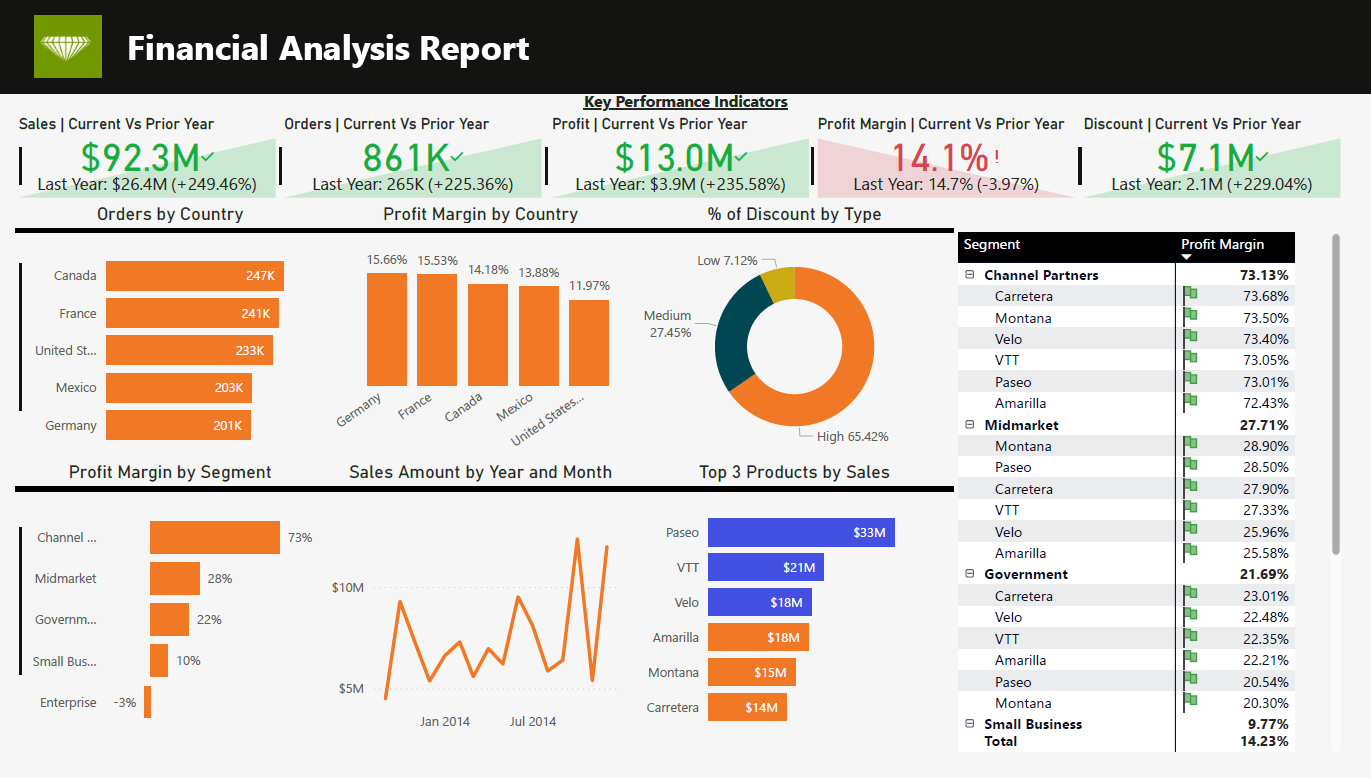

The dashboard page shown, as its layout file describes it:
{"tool":"powerbi","page":{"name":"Page 1","canvas":[1280,720],"ordinal":0},"visuals":[{"type":"kpi","title":"Sales | Current Vs Prior Year","fields":{"Indicator":["Analysis.Sales Amount"],"TrendLine":["Date Table.Year"],"Goal":["Analysis.Sales Amount LY"]},"box":[11.5,107.2,250,82],"z":0},{"type":"kpi","title":"Profit | Current Vs Prior Year","fields":{"TrendLine":["Date Table.Year"],"Indicator":["Analysis.Profit"],"Goal":["Analysis.Profit LY"]},"box":[509.4,107.2,250,82],"z":1},{"type":"kpi","title":"Orders | Current Vs Prior Year","fields":{"TrendLine":["Date Table.Year"],"Indicator":["Analysis.Orders"],"Goal":["Analysis.Orders LY"]},"box":[260.5,107.2,250,82],"z":2},{"type":"kpi","title":"Profit Margin | Current Vs Prior Year","fields":{"TrendLine":["Date Table.Year"],"Indicator":["Analysis.Profit Margin"],"Goal":["Analysis.Profit Margin LY"]},"box":[758.3,107.2,250,82],"z":3},{"type":"kpi","title":"Discount | Current Vs Prior Year","fields":{"TrendLine":["Date Table.Year"],"Goal":["Analysis.Discount Offered LY"],"Indicator":["Analysis.Discount"]},"box":[1007.2,107.2,250,82],"z":4},{"type":"clusteredBarChart","fields":{"Category":["financials.Country"],"Y":["Analysis.Orders"]},"box":[13.3,188.3,290,241.7],"z":5},{"type":"columnChart","fields":{"Category":["financials.Country"],"Y":["Analysis.Profit Margin"]},"box":[303.3,188.3,290,241.7],"z":6},{"type":"donutChart","title":"% of Discount by Type","fields":{"Category":["financials.Discount Band"],"Y":["Analysis.Discount Offered LY"]},"box":[593.3,188.3,296.7,241.7],"z":7},{"type":"barChart","fields":{"Category":["financials.Segment"],"Y":["Analysis.Profit Margin"]},"box":[13.3,430,290,261.7],"z":8},{"type":"lineChart","fields":{"Y":["Analysis.Sales Amount"],"Category":["Date Table.Date.Variation.Date Hierarchy.Year","Date Table.Date.Variation.Date Hierarchy.Month"]},"box":[303.3,430,290,261.7],"z":9},{"type":"barChart","title":"Top 3 Products by Sales","fields":{"Y":["Analysis.Sales Amount"],"Category":["financials.Product"]},"box":[593.3,430,296.7,261.7],"z":10},{"type":"pivotTable","fields":{"Rows":["financials.Segment","financials.Product"],"Values":["Analysis.Profit Margin"]},"box":[890,211.7,366.7,495],"z":11},{"type":"shape","box":[0,0,1280,86.7],"z":13},{"type":"textbox","box":[113.3,15,428.3,56.7],"z":14},{"type":"image","box":[26.7,6.7,71.7,71.7],"z":15},{"type":"textbox","box":[0,78.3,1280,35],"z":17},{"type":"shape","box":[243.3,136.7,36.7,35],"z":19},{"type":"shape","box":[0,136.7,36.7,35],"z":20},{"type":"shape","box":[491.7,136.7,36.7,35],"z":21},{"type":"shape","box":[740,136.7,36.7,35],"z":22},{"type":"shape","box":[990,136.7,36.7,35],"z":23},{"type":"shape","box":[0,245,36.7,138.3],"z":24},{"type":"shape","box":[0,491.7,36.7,138.3],"z":25}]}

Visuals, with their boxes in screenshot pixels (x1, y1, x2, y2), scaled from the page's 1280x720 canvas onto the 1371x778 screenshot:
"Sales | Current Vs Prior Year" kpi: [x1=12, y1=116, x2=280, y2=204]
"Profit | Current Vs Prior Year" kpi: [x1=546, y1=116, x2=813, y2=204]
"Orders | Current Vs Prior Year" kpi: [x1=279, y1=116, x2=547, y2=204]
"Profit Margin | Current Vs Prior Year" kpi: [x1=812, y1=116, x2=1080, y2=204]
"Discount | Current Vs Prior Year" kpi: [x1=1079, y1=116, x2=1347, y2=204]
clusteredBarChart - financials.Country x Analysis.Orders: [x1=14, y1=203, x2=325, y2=465]
columnChart - financials.Country x Analysis.Profit Margin: [x1=325, y1=203, x2=635, y2=465]
"% of Discount by Type" donutChart: [x1=635, y1=203, x2=953, y2=465]
barChart - financials.Segment x Analysis.Profit Margin: [x1=14, y1=465, x2=325, y2=747]
lineChart - Analysis.Sales Amount x Date Table.Date.Variation.Date Hierarchy.Year: [x1=325, y1=465, x2=635, y2=747]
"Top 3 Products by Sales" barChart: [x1=635, y1=465, x2=953, y2=747]
pivotTable - financials.Segment x financials.Product: [x1=953, y1=229, x2=1346, y2=764]
shape: [x1=0, y1=0, x2=1370, y2=94]
textbox: [x1=121, y1=16, x2=580, y2=77]
image: [x1=29, y1=7, x2=105, y2=85]
textbox: [x1=0, y1=85, x2=1370, y2=122]
shape: [x1=261, y1=148, x2=300, y2=186]
shape: [x1=0, y1=148, x2=39, y2=186]
shape: [x1=527, y1=148, x2=566, y2=186]
shape: [x1=793, y1=148, x2=832, y2=186]
shape: [x1=1060, y1=148, x2=1100, y2=186]
shape: [x1=0, y1=265, x2=39, y2=414]
shape: [x1=0, y1=531, x2=39, y2=681]
